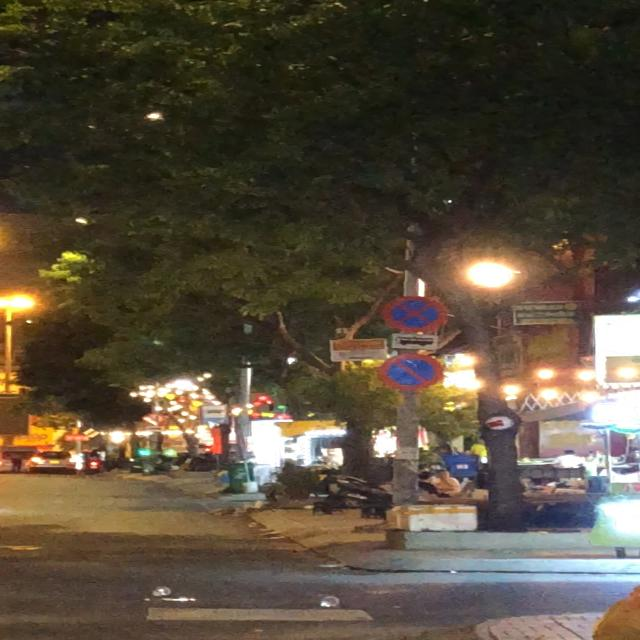Bien bao cam do xe: (379, 354, 448, 392)
Bien bao cam dung xe va do xe: (381, 294, 450, 334)
